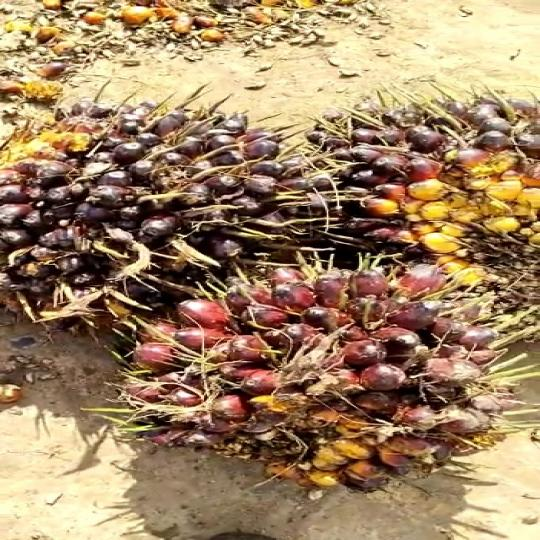kurang masak: (131, 256, 520, 502), (0, 100, 345, 316), (277, 93, 540, 267)
